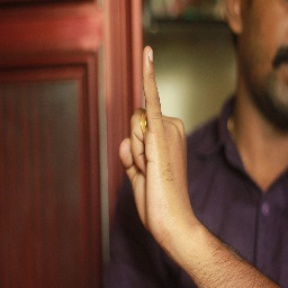I: (113, 46, 200, 229)
